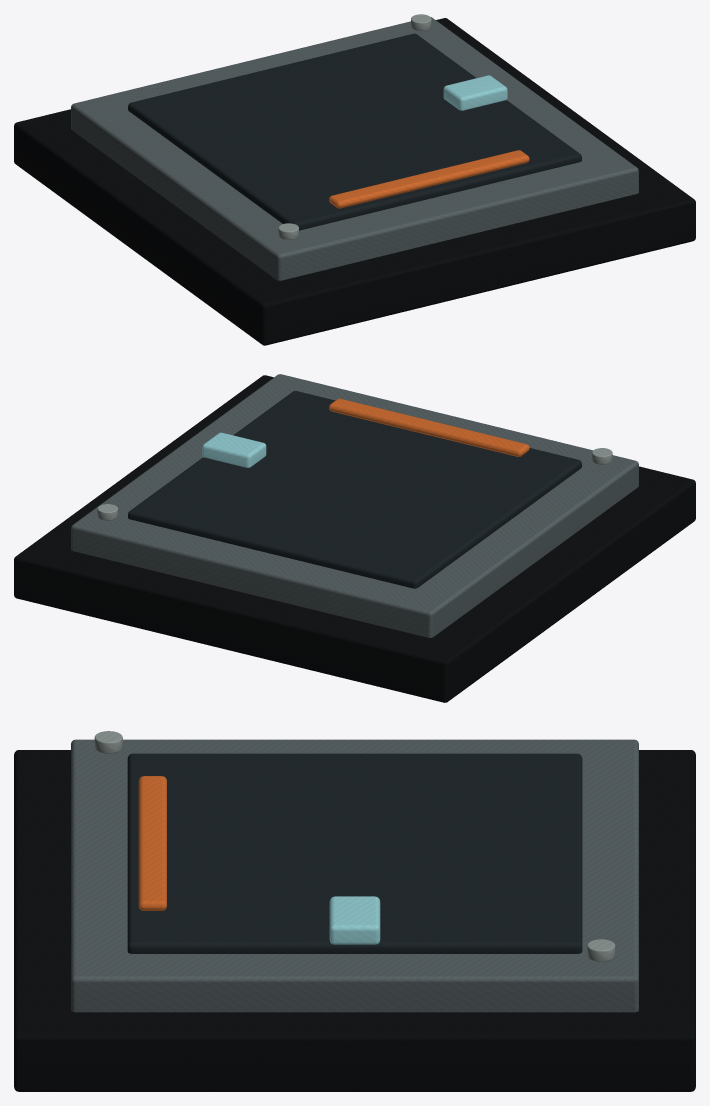
File: FloorServiceHatch.glb
3 renders of one model, top to bottom at view 1: azimuth 30°, elevation 25°; view 2: azimuth 150°, elevation 25°; view 3: azimuth 270°, elevation 25°, orthographic. The views are drawn at different scales.
Parts seen in each view (by area): view 1: FloorServiceHatch_Mesh; view 2: FloorServiceHatch_Mesh; view 3: FloorServiceHatch_Mesh.
Boxes of the visible parts, <box> form: FloorServiceHatch_Mesh: <box>14,14,695,345</box>; FloorServiceHatch_Mesh: <box>14,374,695,702</box>; FloorServiceHatch_Mesh: <box>14,731,695,1091</box>.
Bounding box in the file's own units: 1.08 × 0.2075 × 1.08.
Materials: 6 (6 with a texture image).
